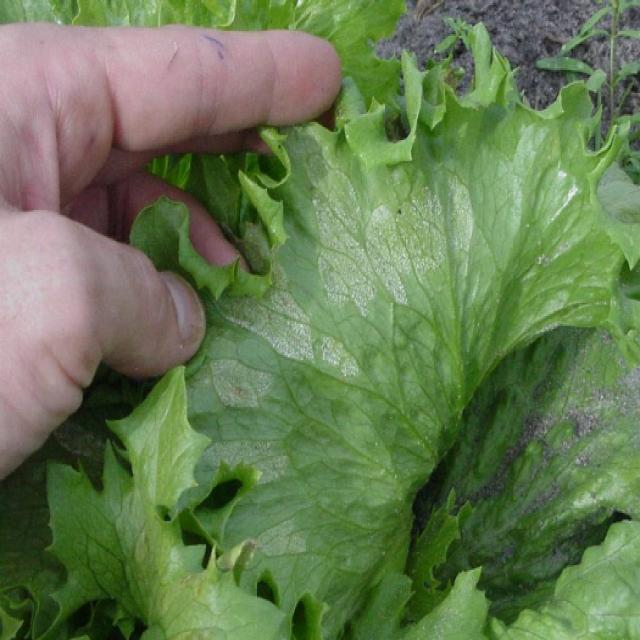Powdery_mildew_on_lettuce: (274, 173, 497, 438)
